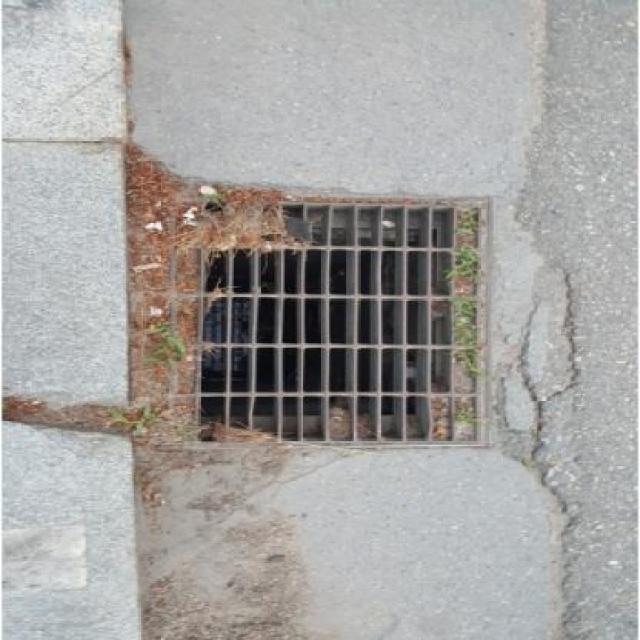Drain Hole: (153, 190, 515, 464)
